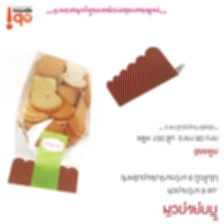snack: (1, 46, 98, 200)
